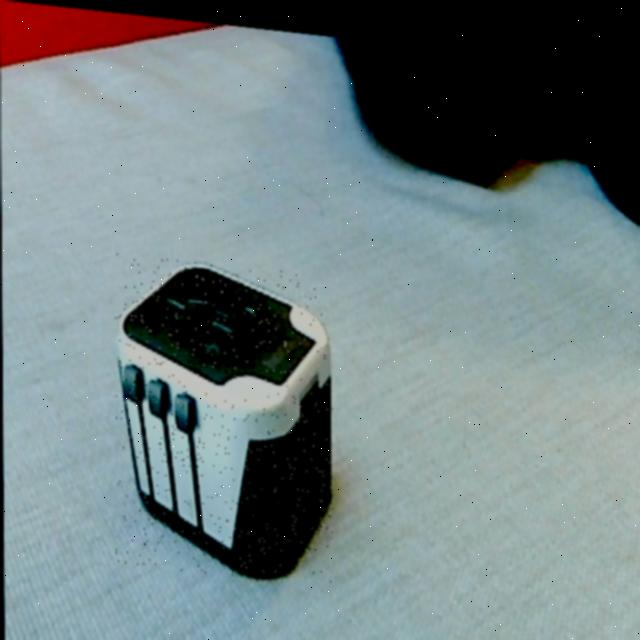adapter: (113, 249, 333, 580)
